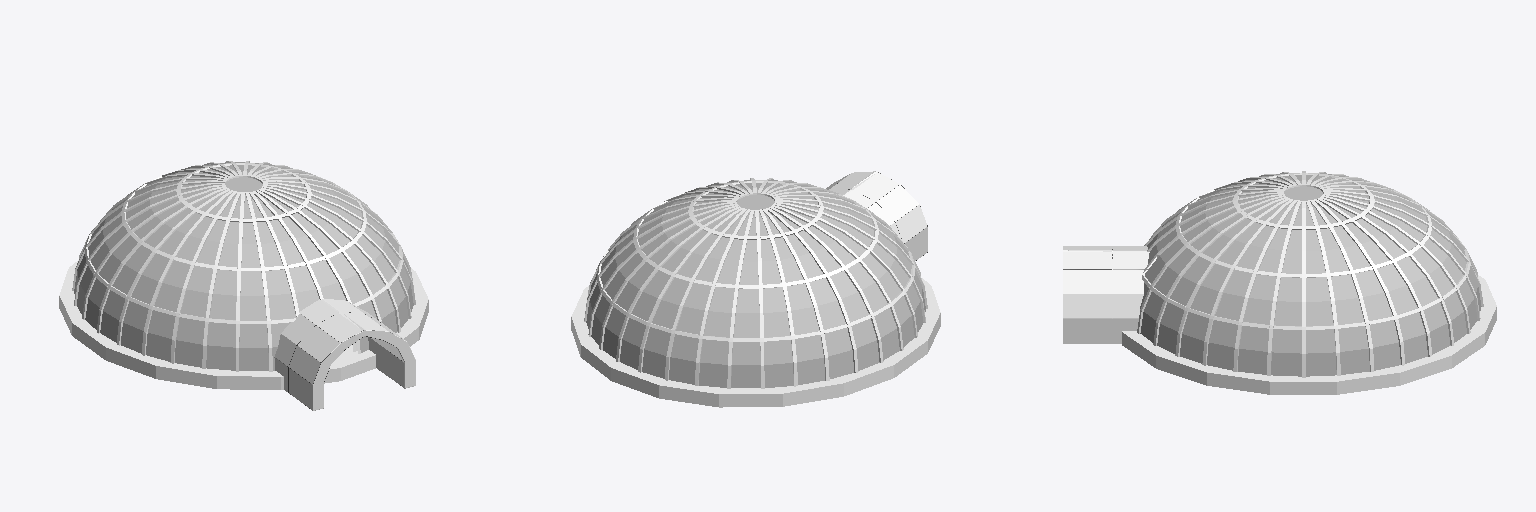
3 renders of one model, left to right at view 1: azimuth 30°, elevation 25°; view 2: azimuth 150°, elevation 25°; view 3: azimuth 270°, elevation 25°, orthographic.
Parts seen in each view (by area): view 1: iglu; view 2: iglu; view 3: iglu.
Boxes of the visible parts, x1,y1,x2,y2 form: iglu: [59, 161, 428, 410]; iglu: [571, 171, 940, 407]; iglu: [1063, 171, 1496, 394].
Size of the model in its own units: 24.42 by 9.5 by 29.59.
6 materials, 5 textured.